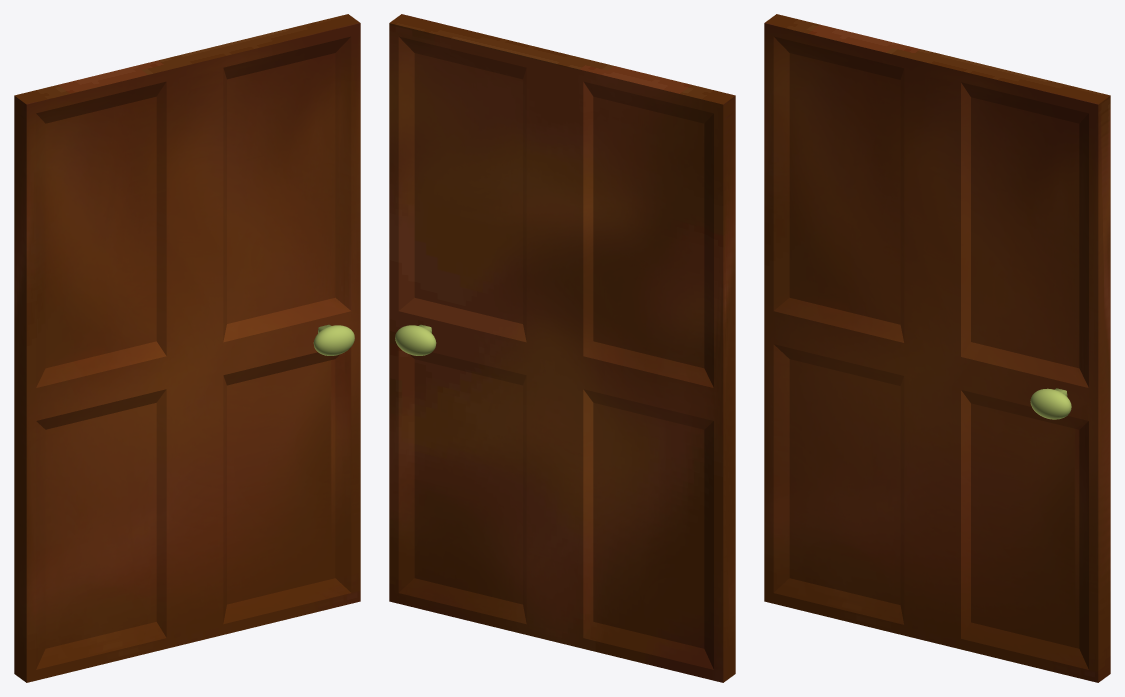
The model's file is dorr inside 1.fbx.
The picture shows the model from 3 angles, left to right: view 1: azimuth 30°, elevation 25°; view 2: azimuth 150°, elevation 25°; view 3: azimuth 330°, elevation 25°; orthographic projection.
Visible parts, largest first — view 1: Cube.001; view 2: Cube.001; view 3: Cube.001.
Boxes of the visible parts, x1=… form: Cube.001: x1=14, y1=14, x2=360, y2=682; Cube.001: x1=389, y1=14, x2=735, y2=682; Cube.001: x1=764, y1=14, x2=1110, y2=682.
Size of the model in its own units: 118 by 196 by 28.77.
2 materials, 1 textured.
